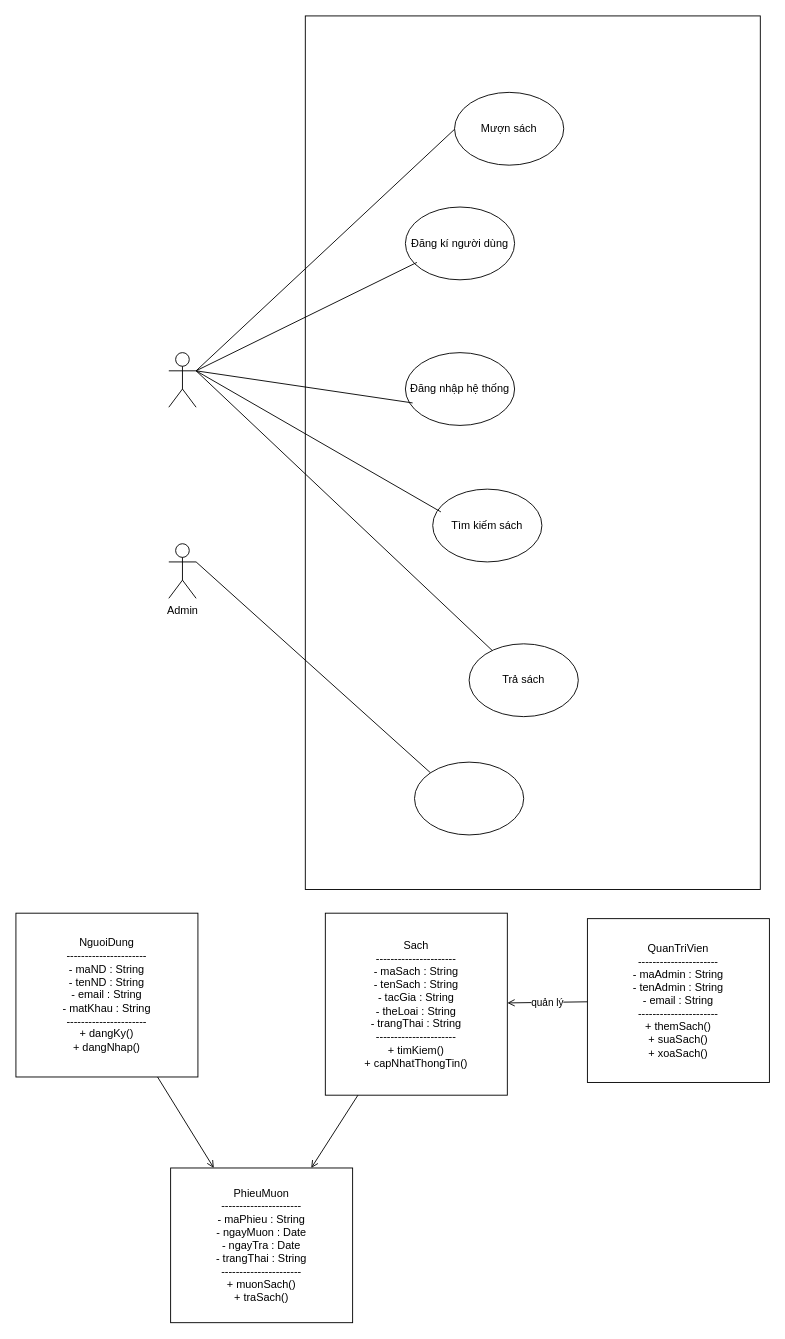
Some shapes in this 785 by 1339 pixel diagram are drawn without their labels. Here are the shapes that lost their labels. From the top down, the centre of each, then its label:
pixel 182 379: User
pixel 469 798: Quản lý sách
